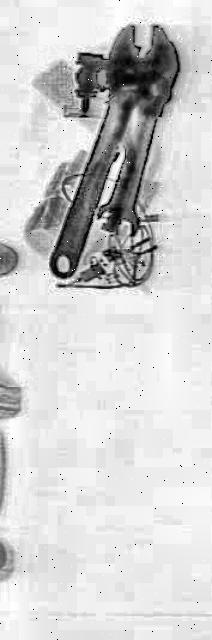Wrench: (38, 2, 158, 322), (92, 6, 184, 284)
